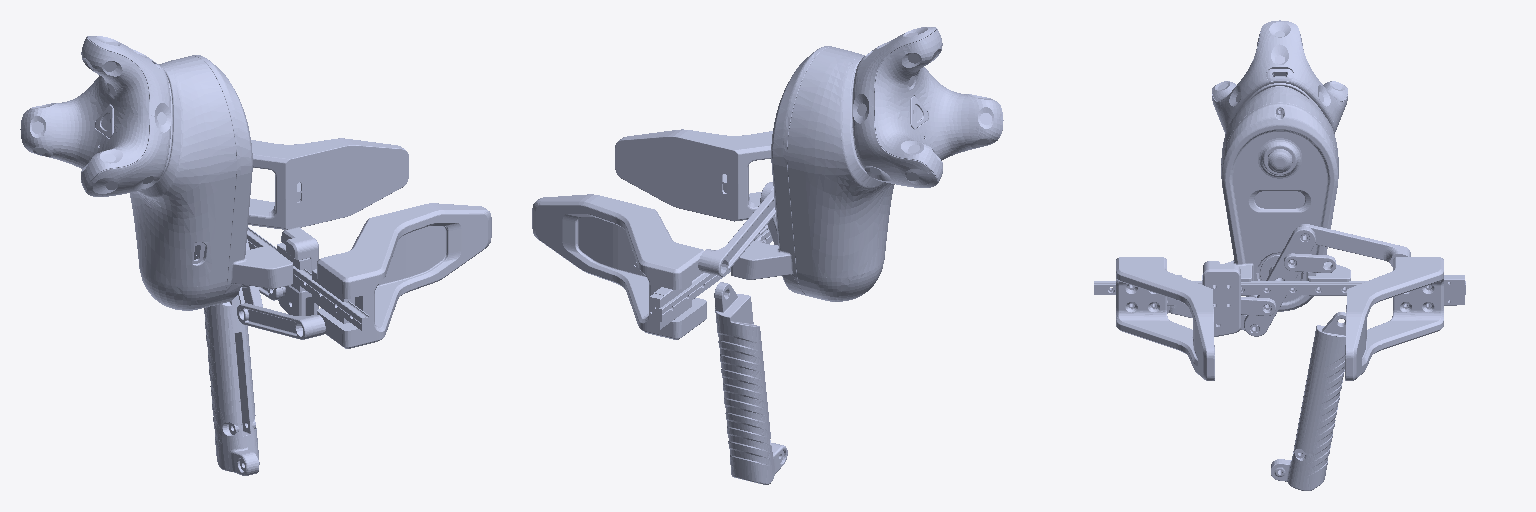
--- Render facts (derived) ---
Views: 3 orthographic renders of the robot side by side, from view 1: azimuth 30°, elevation 25°; view 2: azimuth 150°, elevation 25°; view 3: azimuth 270°, elevation 25°.
Model pika_sensor_description with 12 links and 11 joints (7 revolute, 4 prismatic), rooted at base_link, posed all joints at 0.
Links seen in each view (by area): view 1: base_link, right_gripper_add_2, left_gripper_add_2, left_hand_link, right_gripper_add_1, right_link2; view 2: base_link, left_gripper_add_2, right_gripper_add_2, left_hand_link, left_link2; view 3: base_link, left_gripper_add_2, right_gripper_add_2, left_hand_link, right_gripper_add_1, left_link2, center_link, left_link1, right_link1.
Link boxes in pixels (x1,y1,x2,y2): base_link: (20, 36, 369, 330); right_gripper_add_2: (312, 203, 491, 348); left_gripper_add_2: (248, 138, 408, 229); left_hand_link: (204, 295, 259, 475); right_gripper_add_1: (269, 227, 318, 315); right_link2: (237, 303, 325, 339); base_link: (654, 27, 1003, 321); left_gripper_add_2: (532, 194, 706, 339); right_gripper_add_2: (615, 129, 772, 221); left_hand_link: (714, 282, 787, 484); left_link2: (698, 189, 775, 276); base_link: (1094, 20, 1465, 311); left_gripper_add_2: (1345, 257, 1464, 380); right_gripper_add_2: (1116, 257, 1214, 380); left_hand_link: (1271, 312, 1345, 490); right_gripper_add_1: (1202, 261, 1240, 336); left_link2: (1299, 224, 1410, 266); center_link: (1244, 226, 1315, 336); left_link1: (1284, 253, 1335, 272); right_link1: (1241, 297, 1275, 315).
Size in the robot's own frame: 0.2204 by 0.215 by 0.2544 metres.
10 mesh visuals loaded from 12 distinct referenced files (10 binary STL); not drawn: 2 (reference not matched to a file when rendering).

robot.urdf — pika_sensor_description:
<?xml version="1.0" encoding="utf-8"?>
<!-- This URDF was automatically created by SolidWorks to URDF Exporter! Originally created by Stephen Brawner ([email redacted]) 
     Commit Version: 1.6.0-4-g7f85cfe  Build Version: 1.6.7995.38578
     For more information, please see http://wiki.ros.org/sw_urdf_exporter -->
<robot
  name="pika_sensor_description">
  <link
    name="base_link">
    <inertial>
      <origin
        xyz="-0.0526291215315274 -2.64717711707593E-06 0.0623289798705541"
        rpy="0 0 0" />
      <mass
        value="0.157180016913411" />
      <inertia
        ixx="0.000178248123474744"
        ixy="-4.55370740220183E-08"
        ixz="-4.22469375740431E-06"
        iyy="0.000116975791280587"
        iyz="8.34834980089626E-08"
        izz="9.53547931174369E-05" />
    </inertial>
    <visual>
      <origin
        xyz="0 0 0"
        rpy="0 0 0" />
      <geometry>
        <mesh
          filename="package://pika_sensor_description/meshes/base_link.STL" />
      </geometry>
      <material
        name="">
        <color
          rgba="0.792156862745098 0.819607843137255 0.933333333333333 1" />
      </material>
    </visual>
    <collision>
      <origin
        xyz="0 0 0"
        rpy="0 0 0" />
      <geometry>
        <mesh
          filename="package://pika_sensor_description/meshes/base_link.STL" />
      </geometry>
    </collision>
  </link>
  <link
    name="center_link">
    <inertial>
      <origin
        xyz="-0.00945031251720393 4.64905891561784E-16 1.05818132034585E-15"
        rpy="0 0 0" />
      <mass
        value="0.00646511303574417" />
      <inertia
        ixx="1.69886330111763E-06"
        ixy="-1.31491690261151E-20"
        ixz="-1.8126354122922E-20"
        iyy="1.95031170423133E-06"
        iyz="-6.0257585050725E-07"
        izz="1.05459429112543E-06" />
    </inertial>
    <visual>
      <origin
        xyz="0 0 0"
        rpy="0 0 0" />
      <geometry>
        <mesh
          filename="package://pika_sensor_description/meshes/center_link.STL" />
      </geometry>
      <material
        name="">
        <color
          rgba="0.792156862745098 0.819607843137255 0.933333333333333 1" />
      </material>
    </visual>
    <collision>
      <origin
        xyz="0 0 0"
        rpy="0 0 0" />
      <geometry>
        <mesh
          filename="package://pika_sensor_description/meshes/center_link.STL" />
      </geometry>
    </collision>
  </link>
  <joint
    name="center_joint"
    type="revolute">
    <origin
      xyz="0 0 0"
      rpy="0 0 0" />
    <parent
      link="base_link" />
    <child
      link="center_link" />
    <axis
      xyz="1 0 0" />
    <limit
      lower="-0.5"
      upper="1.2"
      effort="100"
      velocity="1" />
  </joint>
  <link
    name="left_link1">
    <inertial>
      <origin
        xyz="0.00183030261369957 0.00944196905925757 -0.000597775252159641"
        rpy="0 0 0" />
      <mass
        value="0.000816125124495122" />
      <inertia
        ixx="6.24701962597735E-08"
        ixy="-2.05089014511856E-18"
        ixz="2.30872675450459E-17"
        iyy="8.74942242706239E-09"
        iyz="2.98751684188104E-09"
        izz="5.57484730171003E-08" />
    </inertial>
    <visual>
      <origin
        xyz="0 0 0"
        rpy="0 0 0" />
      <geometry>
        <mesh
          filename="package://pika_sensor_description/meshes/left_link1.STL" />
      </geometry>
      <material
        name="">
        <color
          rgba="0.792156862745098 0.819607843137255 0.933333333333333 1" />
      </material>
    </visual>
    <collision>
      <origin
        xyz="0 0 0"
        rpy="0 0 0" />
      <geometry>
        <mesh
          filename="package://pika_sensor_description/meshes/left_link1.STL" />
      </geometry>
    </collision>
  </link>
  <joint
    name="jeft_joint1"
    type="revolute">
    <origin
      xyz="0 0.0071865 0.014295"
      rpy="0 0 0" />
    <parent
      link="center_link" />
    <child
      link="left_link1" />
    <axis
      xyz="1 0 0" />
    <limit
      lower="-3.1416"
      upper="3.1416"
      effort="100"
      velocity="1" />
    <mimic joint="center_joint" multiplier="-1.0" />
  </joint>
  <!-- <link
    name="left_gripper1">
    <inertial>
      <origin
        xyz="0.0117384904988727 0.00614085724866873 -0.0146796153711032"
        rpy="0 0 0" />
      <mass
        value="0.00848198405705015" />
      <inertia
        ixx="1.471984408547E-06"
        ixy="5.51701058590495E-09"
        ixz="2.36754669636815E-08"
        iyy="1.23741466992994E-06"
        iyz="1.65458935447458E-08"
        izz="4.24824871911827E-07" />
    </inertial>
    <visual>
      <origin
        xyz="0 0 0"
        rpy="0 0 0" />
      <geometry>
        <mesh
          filename="package://pika_sensor_description/meshes/left_gripper1.STL" />
      </geometry>
      <material
        name="">
        <color
          rgba="0.792156862745098 0.819607843137255 0.933333333333333 1" />
      </material>
    </visual>
    <collision>
      <origin
        xyz="0 0 0"
        rpy="0 0 0" />
      <geometry>
        <mesh
          filename="package://pika_sensor_description/meshes/left_gripper1.STL" />
      </geometry>
    </collision>
  </link>
  <joint
    name="left_gripper_joint1"
    type="revolute">
    <origin
      xyz="0 0.020459 -0.0012953"
      rpy="0 0 0" />
    <parent
      link="left_link1" />
    <child
      link="left_gripper1" />
    <axis
      xyz="1 0 0" />
    <limit
      lower="-3.1416"
      upper="3.1416"
      effort="100"
      velocity="1" />
  </joint> -->
  <link
    name="left_hand_link">
    <inertial>
      <origin
        xyz="-0.0106882114402847 -0.0125554952320645 -0.0579283222918716"
        rpy="0 0 0" />
      <mass
        value="0.0312791454757998" />
      <inertia
        ixx="2.88378457590725E-05"
        ixy="-1.31925993682221E-07"
        ixz="-5.64500800060229E-07"
        iyy="2.76752606491321E-05"
        iyz="-4.99147615869805E-06"
        izz="2.73776820468248E-06" />
    </inertial>
    <visual>
      <origin
        xyz="0 0 0"
        rpy="0 0 0" />
      <geometry>
        <mesh
          filename="package://pika_sensor_description/meshes/left_hand_link.STL" />
      </geometry>
      <material
        name="">
        <color
          rgba="0.792156862745098 0.819607843137255 0.933333333333333 1" />
      </material>
    </visual>
    <collision>
      <origin
        xyz="0 0 0"
        rpy="0 0 0" />
      <geometry>
        <mesh
          filename="package://pika_sensor_description/meshes/left_hand_link.STL" />
      </geometry>
    </collision>
  </link>
  <joint
    name="left_hand_joint"
    type="revolute">
    <origin
      xyz="0.0175 0.008 -0.0315"
      rpy="0 0 0" />
    <parent
      link="left_gripper_add_1" />
    <child
      link="left_hand_link" />
    <axis
      xyz="-1 0 0" />
    <limit
      lower="-3.1416"
      upper="3.1416"
      effort="100"
      velocity="1" />
    <mimic joint="center_joint" multiplier="-0.12" />
  </joint>
  <!-- <link
    name="right_hand_link_add">
    <inertial>
      <origin
        xyz="-0.0103018722550108 0.0129556640249047 -0.0574659152066724"
        rpy="0 0 0" />
      <mass
        value="0.0209887540336027" />
      <inertia
        ixx="2.42273571637369E-05"
        ixy="5.94455479992957E-09"
        ixz="-3.08795120226136E-07"
        iyy="2.31296417354162E-05"
        iyz="4.46216157055521E-06"
        izz="2.40311321956704E-06" />
    </inertial>
    <visual>
      <origin
        xyz="0 0 0"
        rpy="0 0 0" />
      <geometry>
        <mesh
          filename="package://pika_sensor_description/meshes/right_hand_link_add.STL" />
      </geometry>
      <material
        name="">
        <color
          rgba="0.792156862745098 0.819607843137255 0.933333333333333 1" />
      </material>
    </visual>
    <collision>
      <origin
        xyz="0 0 0"
        rpy="0 0 0" />
      <geometry>
        <mesh
          filename="package://pika_sensor_description/meshes/right_hand_link_add.STL" />
      </geometry>
    </collision>
  </link>
  <joint
    name="right_hand_joint_add"
    type="revolute">
    <origin
      xyz="0 -0.071291 0"
      rpy="0 0 0" />
    <parent
      link="left_hand_link" />
    <child
      link="right_hand_link_add" />
    <axis
      xyz="-1 0 0" />
    <limit
      lower="-3.1416"
      upper="3.1416"
      effort="100"
      velocity="1" />
  </joint> -->
  <link
    name="left_link2">
    <inertial>
      <origin
        xyz="-0.00504944243122588 0.0336006243153898 -0.00866310098243702"
        rpy="0 0 0" />
      <mass
        value="0.00239627661817739" />
      <inertia
        ixx="1.0018414114424E-06"
        ixy="-6.91486172562268E-08"
        ixz="1.78282877950957E-08"
        iyy="1.01285429465848E-07"
        iyz="2.30996665587961E-07"
        izz="9.37669851603353E-07" />
    </inertial>
    <visual>
      <origin
        xyz="0 0 0"
        rpy="0 0 0" />
      <geometry>
        <mesh
          filename="package://pika_sensor_description/meshes/left_link2.STL" />
      </geometry>
      <material
        name="">
        <color
          rgba="0.792156862745098 0.819607843137255 0.933333333333333 1" />
      </material>
    </visual>
    <collision>
      <origin
        xyz="0 0 0"
        rpy="0 0 0" />
      <geometry>
        <mesh
          filename="package://pika_sensor_description/meshes/left_link2.STL" />
      </geometry>
    </collision>
  </link>
  <joint
    name="left_joint2"
    type="revolute">
    <origin
      xyz="0 0.014597 0.029037"
      rpy="0 0 0" />
    <parent
      link="center_link" />
    <child
      link="left_link2" />
    <axis
      xyz="1 0 0" />
    <limit
      lower="-3.1416"
      upper="3.1416"
      effort="100"
      velocity="1" />
    <mimic joint="center_joint" multiplier="-1.0" />
  </joint>
  <!-- <link
    name="left_gripper2">
    <inertial>
      <origin
        xyz="0.0430289151435206 -0.00553865302492387 -0.0144995442531111"
        rpy="0 0 0" />
      <mass
        value="0.0342124377256134" />
      <inertia
        ixx="1.55443106325641E-05"
        ixy="1.48804907776655E-05"
        ixz="1.52303964317834E-08"
        iyy="3.53217170521538E-05"
        iyz="-4.52325016116463E-09"
        izz="4.07798435835112E-05" />
    </inertial>
    <visual>
      <origin
        xyz="0 0 0"
        rpy="0 0 0" />
      <geometry>
        <mesh
          filename="package://pika_sensor_description/meshes/left_gripper2.STL" />
      </geometry>
      <material
        name="">
        <color
          rgba="0.792156862745098 0.819607843137255 0.933333333333333 1" />
      </material>
    </visual>
    <collision>
      <origin
        xyz="0 0 0"
        rpy="0 0 0" />
      <geometry>
        <mesh
          filename="package://pika_sensor_description/meshes/left_gripper2.STL" />
      </geometry>
    </collision>
  </link>
  <joint
    name="left_gripper_joint2"
    type="revolute">
    <origin
      xyz="-0.0033 0.056163 -0.01448"
      rpy="0 0 0" />
    <parent
      link="left_link2" />
    <child
      link="left_gripper2" />
    <axis
      xyz="1 0 0" />
    <limit
      lower="-3.1416"
      upper="3.1416"
      effort="100"
      velocity="1" />
  </joint> -->
  <link
    name="right_link1">
    <inertial>
      <origin
        xyz="0.00183030261369962 -0.00944196905926021 0.000597775252121541"
        rpy="0 0 0" />
      <mass
        value="0.00081612512449512" />
      <inertia
        ixx="6.2470196259773E-08"
        ixy="2.0512816733999E-18"
        ixz="-2.30873859240121E-17"
        iyy="8.74942242703806E-09"
        iyz="2.98751684168963E-09"
        izz="5.57484730171241E-08" />
    </inertial>
    <visual>
      <origin
        xyz="0 0 0"
        rpy="0 0 0" />
      <geometry>
        <mesh
          filename="package://pika_sensor_description/meshes/right_link1.STL" />
      </geometry>
      <material
        name="">
        <color
          rgba="0.792156862745098 0.819607843137255 0.933333333333333 1" />
      </material>
    </visual>
    <collision>
      <origin
        xyz="0 0 0"
        rpy="0 0 0" />
      <geometry>
        <mesh
          filename="package://pika_sensor_description/meshes/right_link1.STL" />
      </geometry>
    </collision>
  </link>
  <joint
    name="right_joint1"
    type="revolute">
    <origin
      xyz="0 -0.0071865 -0.014295"
      rpy="0 0 0" />
    <parent
      link="center_link" />
    <child
      link="right_link1" />
    <axis
      xyz="1 0 0" />
    <limit
      lower="-3.1416"
      upper="3.1416"
      effort="100"
      velocity="1" />
    <mimic joint="center_joint" multiplier="-1.0" />
  </joint>
  <!-- <link
    name="right_gripper1">
    <inertial>
      <origin
        xyz="0.0118594556362572 -0.00621129002808397 0.0103776028002364"
        rpy="0 0 0" />
      <mass
        value="0.00831498924359562" />
      <inertia
        ixx="1.41008207226372E-06"
        ixy="-9.75251545760537E-09"
        ixz="-1.72235070066342E-08"
        iyy="1.17250869240307E-06"
        iyz="1.46086455304846E-08"
        izz="4.1244515567823E-07" />
    </inertial>
    <visual>
      <origin
        xyz="0 0 0"
        rpy="0 0 0" />
      <geometry>
        <mesh
          filename="package://pika_sensor_description/meshes/right_gripper1.STL" />
      </geometry>
      <material
        name="">
        <color
          rgba="0.792156862745098 0.819607843137255 0.933333333333333 1" />
      </material>
    </visual>
    <collision>
      <origin
        xyz="0 0 0"
        rpy="0 0 0" />
      <geometry>
        <mesh
          filename="package://pika_sensor_description/meshes/right_gripper1.STL" />
      </geometry>
    </collision>
  </link>
  <joint
    name="right_gripper_joint1"
    type="revolute">
    <origin
      xyz="0 -0.020459 0.0012953"
      rpy="0 0 0" />
    <parent
      link="right_link1" />
    <child
      link="right_gripper1" />
    <axis
      xyz="1 0 0" />
    <limit
      lower="-3.1416"
      upper="3.1416"
      effort="100"
      velocity="1" />
  </joint> -->
  <link
    name="right_hand_link">
    <inertial>
      <origin
        xyz="-0.0103018722550108 0.0129556640249047 -0.0574659152066724"
        rpy="0 0 0" />
      <mass
        value="0.0209887540336027" />
      <inertia
        ixx="2.42273571637369E-05"
        ixy="5.94455479992964E-09"
        ixz="-3.08795120226136E-07"
        iyy="2.31296417354162E-05"
        iyz="4.46216157055521E-06"
        izz="2.40311321956704E-06" />
    </inertial>
    <visual>
      <origin
        xyz="0 0 0"
        rpy="0 0 0" />
      <geometry>
        <mesh
          filename="package://pika_sensor_description/meshes/right_hand_link.STL" />
      </geometry>
      <material
        name="">
        <color
          rgba="0.792156862745098 0.819607843137255 0.933333333333333 1" />
      </material>
    </visual>
    <collision>
      <origin
        xyz="0 0 0"
        rpy="0 0 0" />
      <geometry>
        <mesh
          filename="package://pika_sensor_description/meshes/right_hand_link.STL" />
      </geometry>
    </collision>
  </link>
  <joint
    name="right_hand_joint"
    type="revolute">
    <origin
      xyz="0.0175 -0.008 -0.0055"
      rpy="0 0 0" />
    <parent
      link="right_gripper_add_1" />
    <child
      link="right_hand_link" />
    <axis
      xyz="-1 0 0" />
    <limit
      lower="-3.1416"
      upper="3.1416"
      effort="100"
      velocity="1" />
    <mimic joint="center_joint" multiplier="0.12" />
  </joint>
  <link
    name="right_link2">
    <inertial>
      <origin
        xyz="-4.94424572495822E-05 -0.033600624227165 0.00866310117801212"
        rpy="0 0 0" />
      <mass
        value="0.00239627661581539" />
      <inertia
        ixx="1.00184140989372E-06"
        ixy="6.91486167298385E-08"
        ixz="-1.7828286546402E-08"
        iyy="1.01285431642108E-07"
        iyz="2.3099666892822E-07"
        izz="9.37669847666938E-07" />
    </inertial>
    <visual>
      <origin
        xyz="0 0 0"
        rpy="0 0 0" />
      <geometry>
        <mesh
          filename="package://pika_sensor_description/meshes/right_link2.STL" />
      </geometry>
      <material
        name="">
        <color
          rgba="0.792156862745098 0.819607843137255 0.933333333333333 1" />
      </material>
    </visual>
    <collision>
      <origin
        xyz="0 0 0"
        rpy="0 0 0" />
      <geometry>
        <mesh
          filename="package://pika_sensor_description/meshes/right_link2.STL" />
      </geometry>
    </collision>
  </link>
  <joint
    name="right_joint2"
    type="revolute">
    <origin
      xyz="-0.005 -0.014597 -0.029037"
      rpy="0 0 0" />
    <parent
      link="center_link" />
    <child
      link="right_link2" />
    <axis
      xyz="1 0 0" />
    <limit
      lower="-3.1416"
      upper="3.1416"
      effort="100"
      velocity="1" />
    <mimic joint="center_joint" multiplier="-1.0" />
  </joint>
  <!-- <link
    name="right_gripper2">
    <inertial>
      <origin
        xyz="0.0430289151475184 0.0070293598411741 0.014501052697465"
        rpy="0 0 0" />
      <mass
        value="0.0342124377285846" />
      <inertia
        ixx="1.55443106330791E-05"
        ixy="-1.4880490779163E-05"
        ixz="-1.51854213874754E-08"
        iyy="3.53217170580027E-05"
        iyz="-4.52325037356429E-09"
        izz="4.0779843589649E-05" />
    </inertial>
    <visual>
      <origin
        xyz="0 0 0"
        rpy="0 0 0" />
      <geometry>
        <mesh
          filename="package://pika_sensor_description/meshes/right_gripper2.STL" />
      </geometry>
      <material
        name="">
        <color
          rgba="0.792156862745098 0.819607843137255 0.933333333333333 1" />
      </material>
    </visual>
    <collision>
      <origin
        xyz="0 0 0"
        rpy="0 0 0" />
      <geometry>
        <mesh
          filename="package://pika_sensor_description/meshes/right_gripper2.STL" />
      </geometry>
    </collision>
  </link>
  <joint
    name="right_gripper_joint2"
    type="revolute">
    <origin
      xyz="0.0017 -0.056163 0.01448"
      rpy="0 0 0" />
    <parent
      link="right_link2" />
    <child
      link="right_gripper2" />
    <axis
      xyz="1 0 0" />
    <limit
      lower="-3.1416"
      upper="3.1416"
      effort="100"
      velocity="1" />
  </joint> -->
  <link
    name="left_gripper_add_1">
    <inertial>
      <origin
        xyz="0.0117384904988726 0.00614085724866872 -0.0146796153711032"
        rpy="0 0 0" />
      <mass
        value="0.00848198405705015" />
      <inertia
        ixx="1.471984408547E-06"
        ixy="5.51701058590495E-09"
        ixz="2.36754669636815E-08"
        iyy="1.23741466992994E-06"
        iyz="1.65458935447458E-08"
        izz="4.24824871911827E-07" />
    </inertial>
    <visual>
      <origin
        xyz="0 0 0"
        rpy="0 0 0" />
      <geometry>
        <mesh
          filename="package://pika_sensor_description/meshes/left_gripper_add_1.STL" />
      </geometry>
      <material
        name="">
        <color
          rgba="0.792156862745098 0.819607843137255 0.933333333333333 1" />
      </material>
    </visual>
    <collision>
      <origin
        xyz="0 0 0"
        rpy="0 0 0" />
      <geometry>
        <mesh
          filename="package://pika_sensor_description/meshes/left_gripper_add_1.STL" />
      </geometry>
    </collision>
  </link>
  <joint
    name="left_gripper_add_joint1"
    type="prismatic">
    <origin
      xyz="0 0.027646 0.013"
      rpy="0 0 0" />
    <parent
      link="base_link" />
    <child
      link="left_gripper_add_1" />
    <axis
      xyz="0 1 0" />
    <limit
      lower="-0.1"
      upper="0.1"
      effort="100"
      velocity="1" />
    <mimic joint="center_joint" multiplier="-0.015" />
  </joint>
  <link
    name="left_gripper_add_2">
    <inertial>
      <origin
        xyz="0.0430289151435207 -0.00553865302492387 -0.0144995442531111"
        rpy="0 0 0" />
      <mass
        value="0.0342124377256133" />
      <inertia
        ixx="1.55443106325641E-05"
        ixy="1.48804907776655E-05"
        ixz="1.52303964317812E-08"
        iyy="3.53217170521538E-05"
        iyz="-4.52325016116432E-09"
        izz="4.07798435835112E-05" />
    </inertial>
    <visual>
      <origin
        xyz="0 0 0"
        rpy="0 0 0" />
      <geometry>
        <mesh
          filename="package://pika_sensor_description/meshes/left_gripper_add_2.STL" />
      </geometry>
      <material
        name="">
        <color
          rgba="0.792156862745098 0.819607843137255 0.933333333333333 1" />
      </material>
    </visual>
    <collision>
      <origin
        xyz="0 0 0"
        rpy="0 0 0" />
      <geometry>
        <mesh
          filename="package://pika_sensor_description/meshes/left_gripper_add_2.STL" />
      </geometry>
    </collision>
  </link>
  <joint
    name="left_gripper_add_joint2"
    type="prismatic">
    <origin
      xyz="-0.0033 0.070761 0.014557"
      rpy="0 0 0" />
    <parent
      link="base_link" />
    <child
      link="left_gripper_add_2" />
    <axis
      xyz="0 1 0" />
    <limit
      lower="-0.1"
      upper="0.1"
      effort="100"
      velocity="1" />
    <mimic joint="center_joint" multiplier="-0.032" />
  </joint>
  <link
    name="right_gripper_add_1">
    <inertial>
      <origin
        xyz="0.0118594556362572 -0.00621129002808396 0.0103776028002364"
        rpy="0 0 0" />
      <mass
        value="0.00831498924359562" />
      <inertia
        ixx="1.41008207226372E-06"
        ixy="-9.75251545760538E-09"
        ixz="-1.72235070066342E-08"
        iyy="1.17250869240307E-06"
        iyz="1.46086455304846E-08"
        izz="4.1244515567823E-07" />
    </inertial>
    <visual>
      <origin
        xyz="0 0 0"
        rpy="0 0 0" />
      <geometry>
        <mesh
          filename="package://pika_sensor_description/meshes/right_gripper_add_1.STL" />
      </geometry>
      <material
        name="">
        <color
          rgba="0.792156862745098 0.819607843137255 0.933333333333333 1" />
      </material>
    </visual>
    <collision>
      <origin
        xyz="0 0 0"
        rpy="0 0 0" />
      <geometry>
        <mesh
          filename="package://pika_sensor_description/meshes/right_gripper_add_1.STL" />
      </geometry>
    </collision>
  </link>
  <joint
    name="right_gripper_add_joint1"
    type="prismatic">
    <origin
      xyz="0 -0.027646 -0.013"
      rpy="0 0 0" />
    <parent
      link="base_link" />
    <child
      link="right_gripper_add_1" />
    <axis
      xyz="0 1 0" />
    <limit
      lower="-0.1"
      upper="0.1"
      effort="100"
      velocity="1" />
    <mimic joint="center_joint" multiplier="0.015" />
  </joint>
  <link
    name="right_gripper_add_2">
    <inertial>
      <origin
        xyz="0.0430289151475183 0.0070293598411741 0.014501052697465"
        rpy="0 0 0" />
      <mass
        value="0.0342124377285846" />
      <inertia
        ixx="1.55443106330791E-05"
        ixy="-1.4880490779163E-05"
        ixz="-1.5185421387475E-08"
        iyy="3.53217170580027E-05"
        iyz="-4.52325037356415E-09"
        izz="4.0779843589649E-05" />
    </inertial>
    <visual>
      <origin
        xyz="0 0 0"
        rpy="0 0 0" />
      <geometry>
        <mesh
          filename="package://pika_sensor_description/meshes/right_gripper_add_2.STL" />
      </geometry>
      <material
        name="">
        <color
          rgba="0.792156862745098 0.819607843137255 0.933333333333333 1" />
      </material>
    </visual>
    <collision>
      <origin
        xyz="0 0 0"
        rpy="0 0 0" />
      <geometry>
        <mesh
          filename="package://pika_sensor_description/meshes/right_gripper_add_2.STL" />
      </geometry>
    </collision>
  </link>
  <joint
    name="right_gripper_add_joint2"
    type="prismatic">
    <origin
      xyz="-0.0033 -0.070761 -0.014557"
      rpy="0 0 0" />
    <parent
      link="base_link" />
    <child
      link="right_gripper_add_2" />
    <axis
      xyz="0 1 0" />
    <limit
      lower="-0.1"
      upper="0.1"
      effort="100"
      velocity="1" />
    <mimic joint="center_joint" multiplier="0.032" />
  </joint>
</robot>
